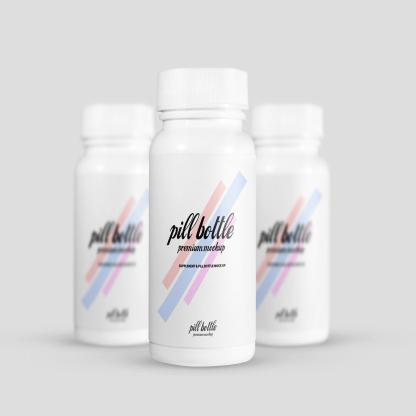jar: (150, 68, 255, 366), (70, 101, 154, 347), (252, 103, 332, 345)
